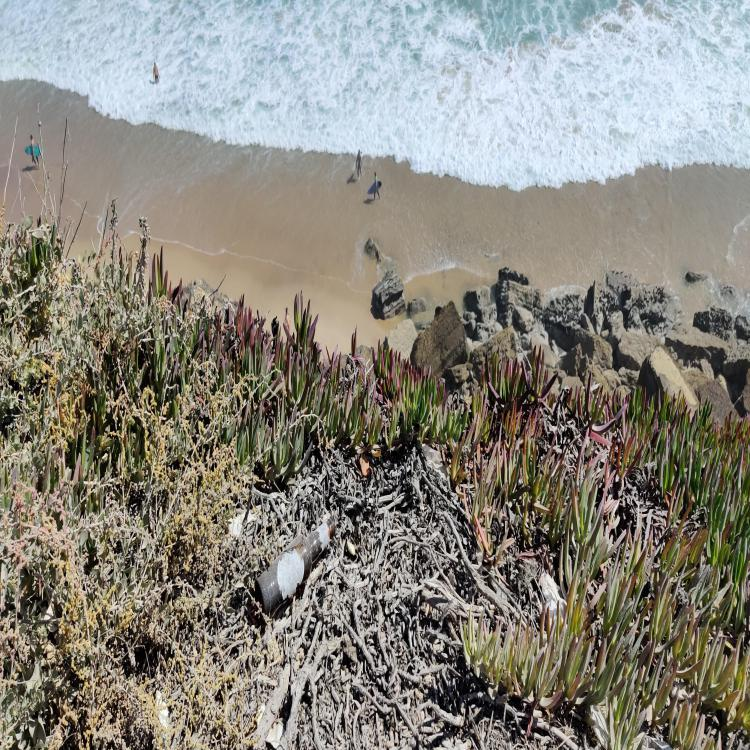Glass bottle: (254, 516, 335, 616)
Plastic film: (265, 722, 285, 748)
Unlabeled litter: (158, 692, 169, 727)
